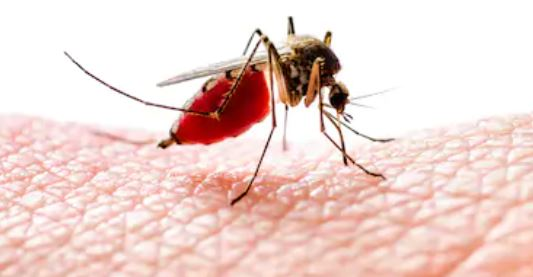dengue_mosquito: (157, 16, 387, 180)
